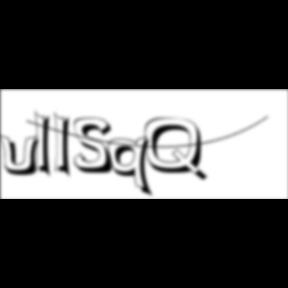I: (54, 110, 78, 182)
Q: (145, 117, 211, 184)
S: (74, 117, 120, 176)
l: (36, 108, 58, 182)
q: (109, 135, 158, 200)
u: (0, 132, 46, 178)
